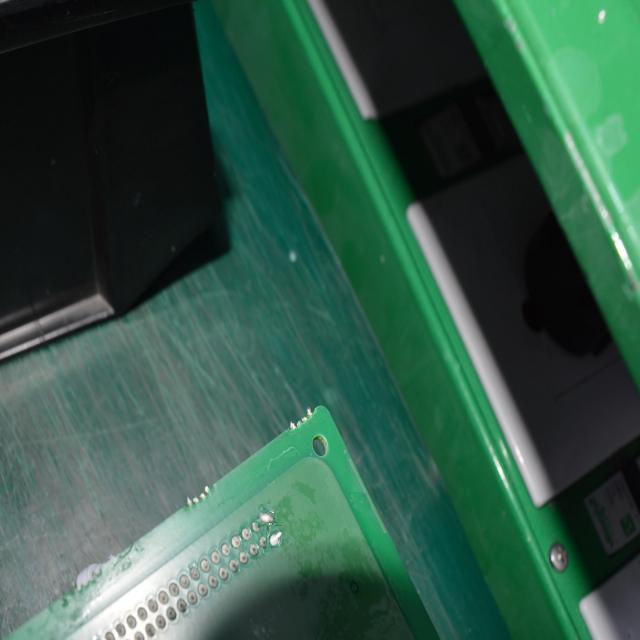slug: (256, 506, 275, 526), (266, 525, 282, 548)
